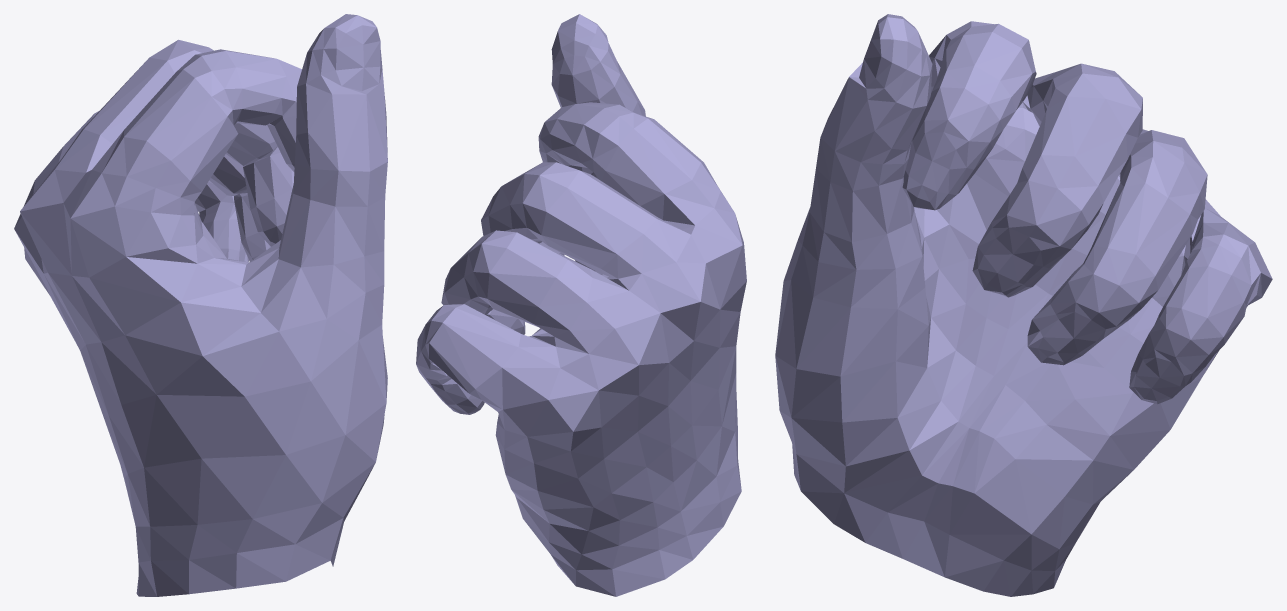
Rendered from frame_0072_source_000072_hand.glb.
3 views of the same model, side by side, from view 1: azimuth 30°, elevation 25°; view 2: azimuth 150°, elevation 25°; view 3: azimuth 270°, elevation 25° (orthographic). The views are drawn at different scales.
Parts seen in each view (by area): view 1: world; view 2: world; view 3: world.
Part boxes in pixels (x1,y1,x2,y2): world: (14, 14, 387, 596); world: (416, 14, 746, 596); world: (775, 14, 1272, 596).
Bounding box in the file's own units: 0.0647 × 0.1284 × 0.0946.
